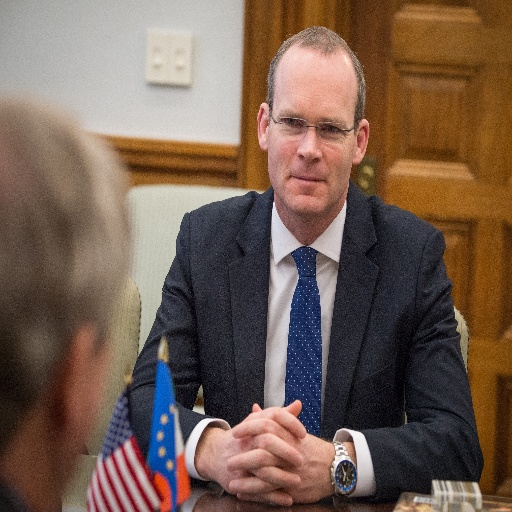hand: (214, 395, 306, 506)
